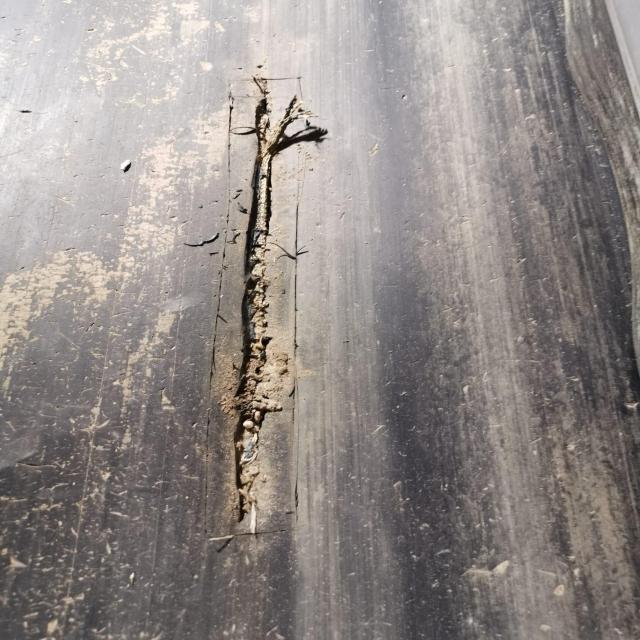Tear: (222, 71, 332, 541)
